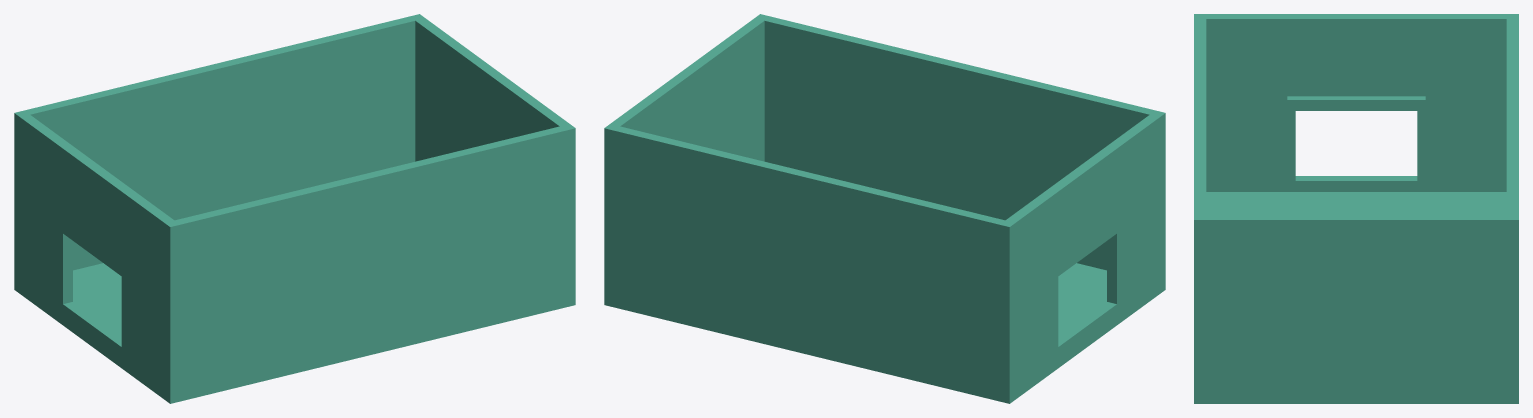
The model's file is estacao-caixa.glb.
The picture shows the model from 3 angles, left to right: view 1: azimuth 30°, elevation 25°; view 2: azimuth 150°, elevation 25°; view 3: azimuth 270°, elevation 25°; orthographic projection. The views are drawn at different scales.
Visible parts, largest first — view 1: estacao-caixa; view 2: estacao-caixa; view 3: estacao-caixa.
Boxes of the visible parts, <box> form: estacao-caixa: <box>14,14,575,403</box>; estacao-caixa: <box>604,14,1165,403</box>; estacao-caixa: <box>1194,14,1518,403</box>.
Size of the model in its own units: 0.12 by 0.05 by 0.08.
